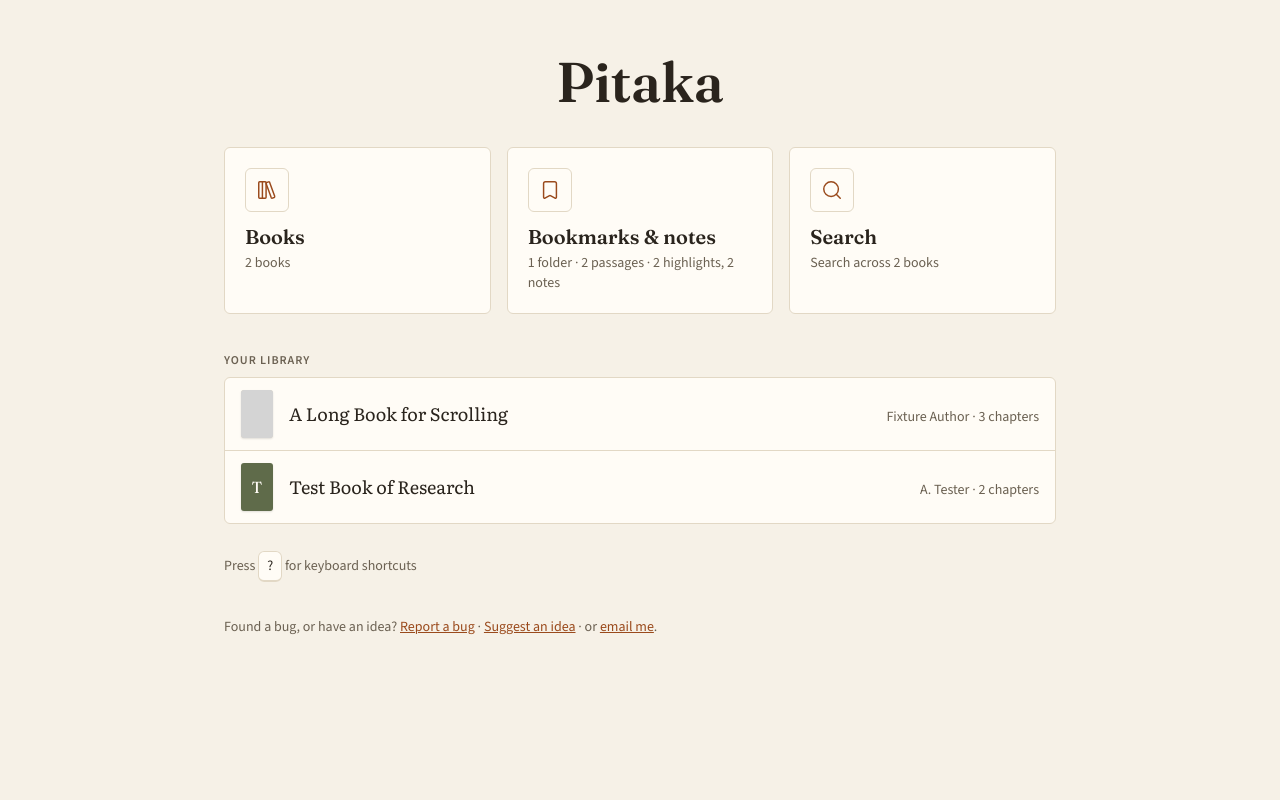
Scenario: highlights in the reader › renders the chapter's highlights
Click the button "Books 2 books": (267, 190) [224,147,491,314]
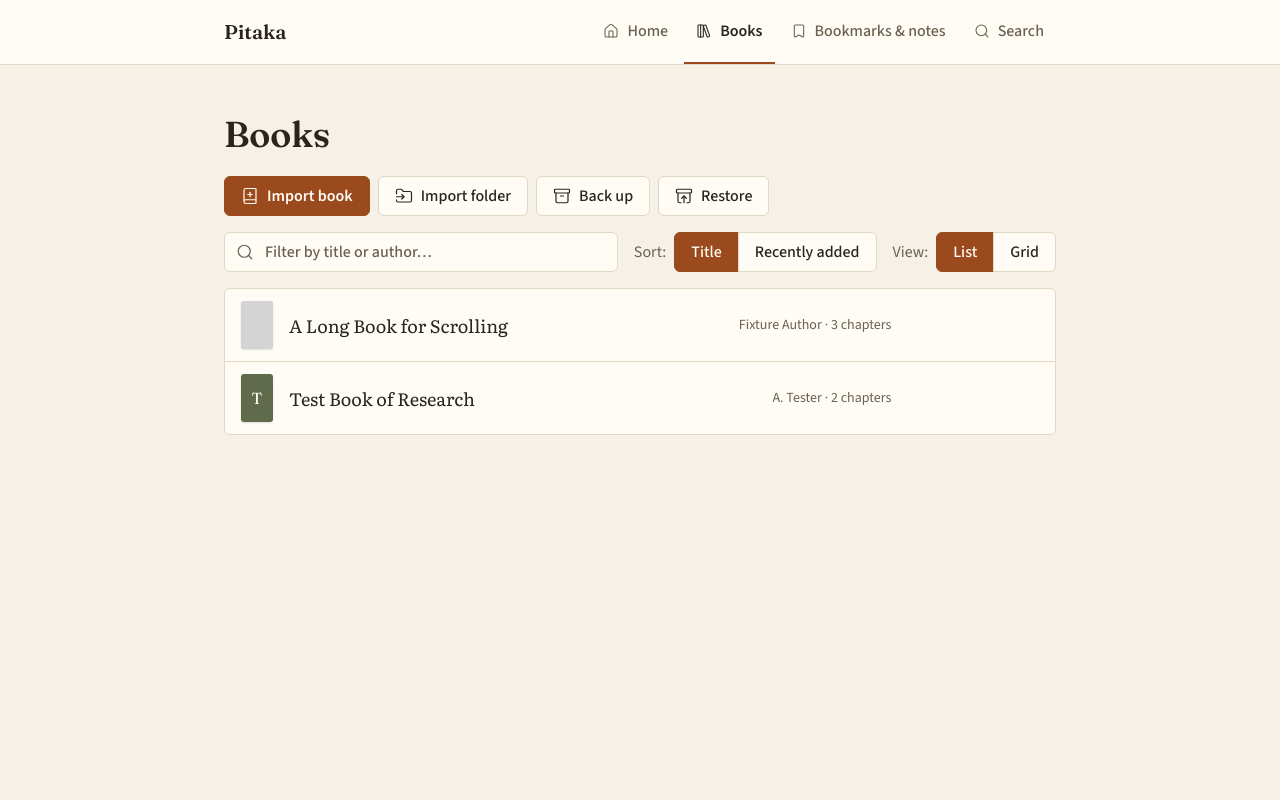
expect the heading "Books" is shown: met, box [224,112,330,156]
Click the text "A Long Book for Scrolling": (399, 325) [289,312,508,339]
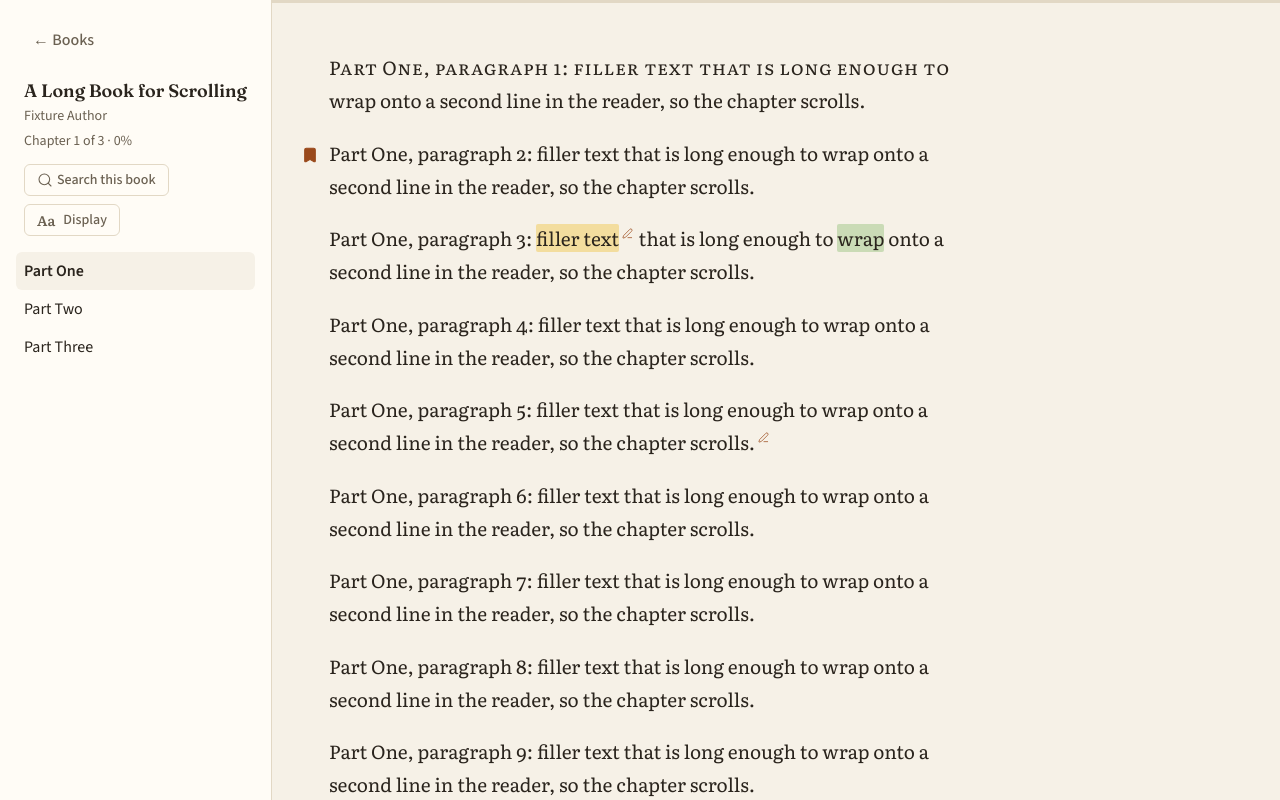
expect the text "Part One, paragraph 1:" is shown: met, box [329,53,950,114]
expect the text with class "hl-yellow" reads "filler text": met, box [536,224,619,252]
expect the text with class "hl-green" reads "wrap": met, box [837,224,884,252]
